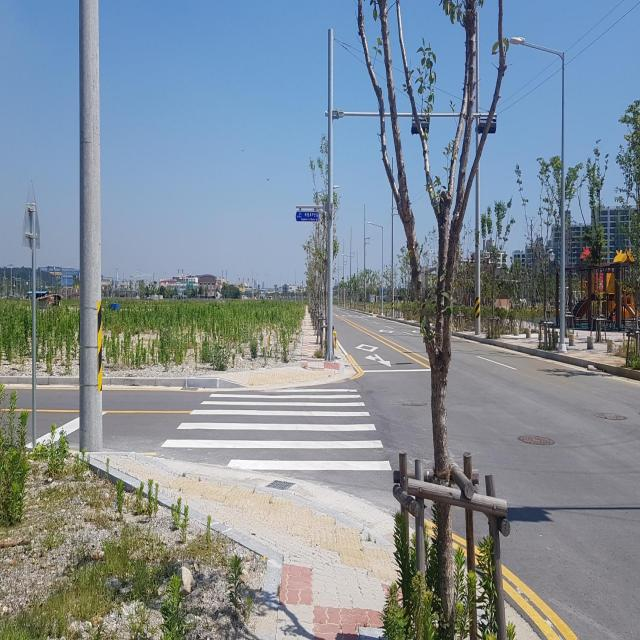횡단보도: (160, 386, 394, 474)
